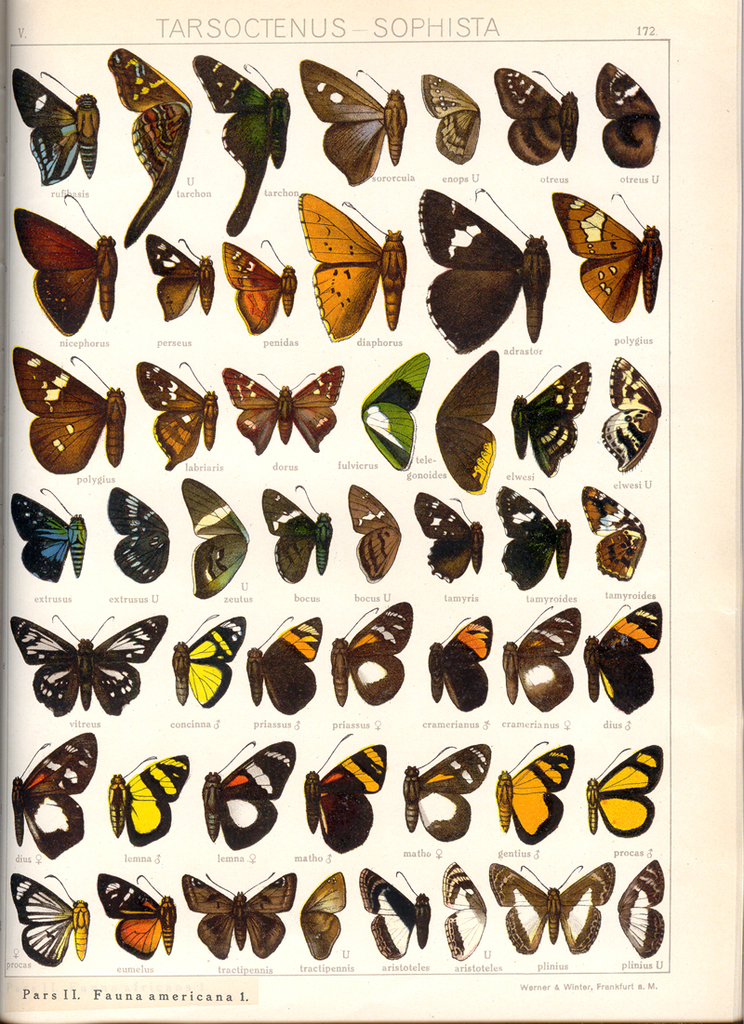Butterfly: (411, 194, 554, 363), (295, 192, 428, 344), (14, 605, 174, 730), (4, 352, 142, 491), (192, 49, 292, 235), (109, 49, 202, 241), (211, 347, 359, 466), (553, 194, 677, 334), (4, 201, 125, 341), (295, 52, 414, 190), (123, 348, 231, 480), (82, 476, 184, 612), (4, 69, 110, 195), (2, 737, 104, 866), (432, 342, 514, 498), (170, 467, 264, 602), (506, 348, 602, 479), (393, 473, 500, 588), (196, 738, 298, 858), (489, 67, 596, 181), (400, 604, 499, 720), (578, 731, 675, 849), (106, 738, 200, 858), (595, 347, 674, 488), (485, 734, 579, 852), (11, 481, 98, 608), (495, 485, 584, 609), (492, 860, 609, 954), (595, 52, 679, 180), (396, 733, 486, 852), (334, 601, 417, 730), (588, 599, 673, 722), (354, 344, 435, 472), (499, 602, 586, 720), (304, 740, 389, 860), (250, 484, 339, 597), (214, 235, 306, 341), (96, 858, 191, 958), (182, 866, 302, 945), (167, 608, 246, 727), (417, 65, 494, 181), (7, 873, 102, 967), (135, 230, 218, 335), (242, 617, 321, 722), (359, 854, 438, 959), (587, 480, 652, 595), (343, 480, 407, 595), (613, 858, 670, 974), (298, 863, 359, 962), (441, 859, 500, 956)
